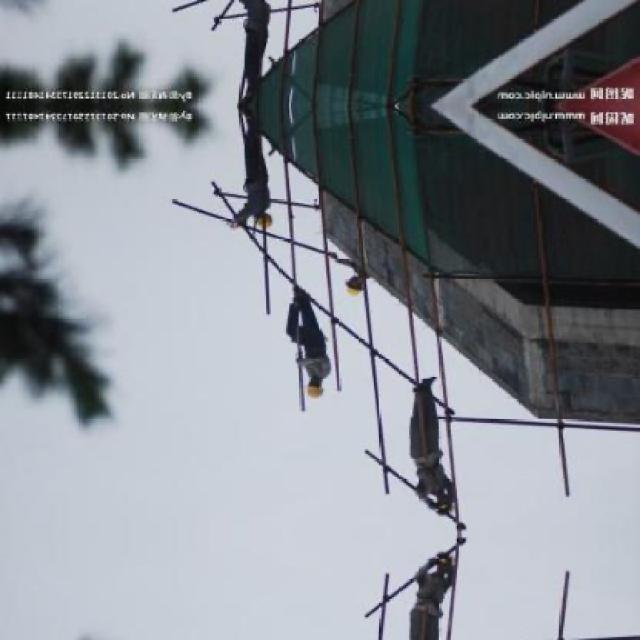con casco: (288, 358, 335, 409)
